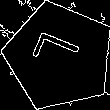L_SE: (29, 33, 89, 81)
